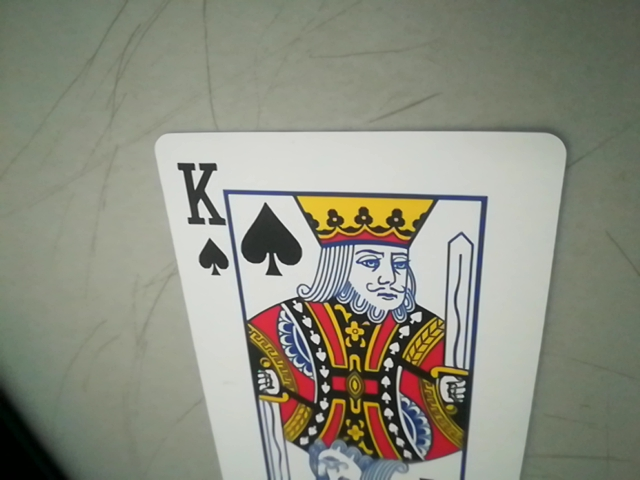ht k: (173, 155, 246, 281)
